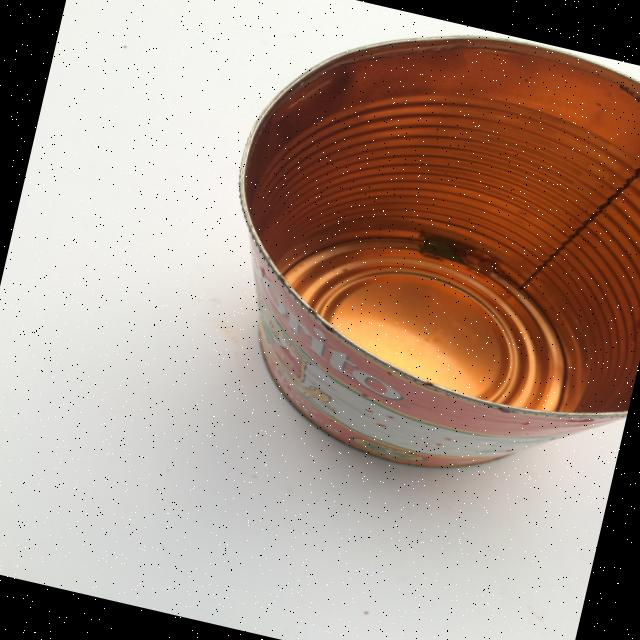metal: (181, 0, 640, 511)
